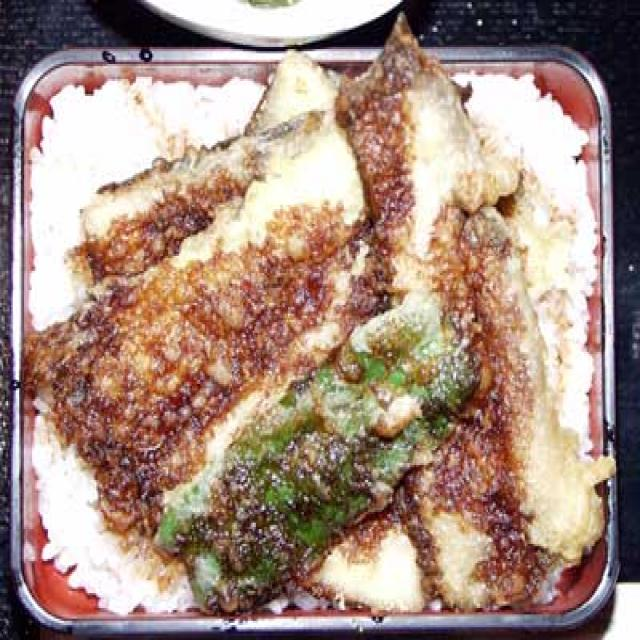熟制海鲜: (0, 38, 640, 640)
